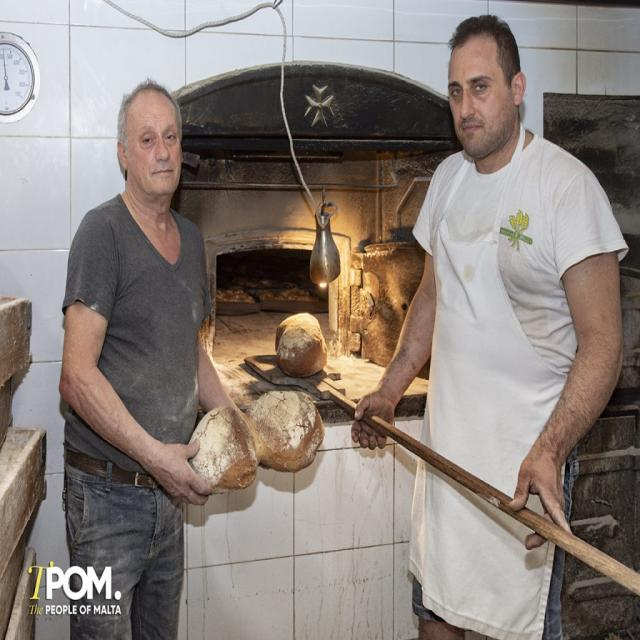Maltese-Bread: (242, 390, 324, 472), (189, 407, 258, 492), (276, 314, 327, 377)
